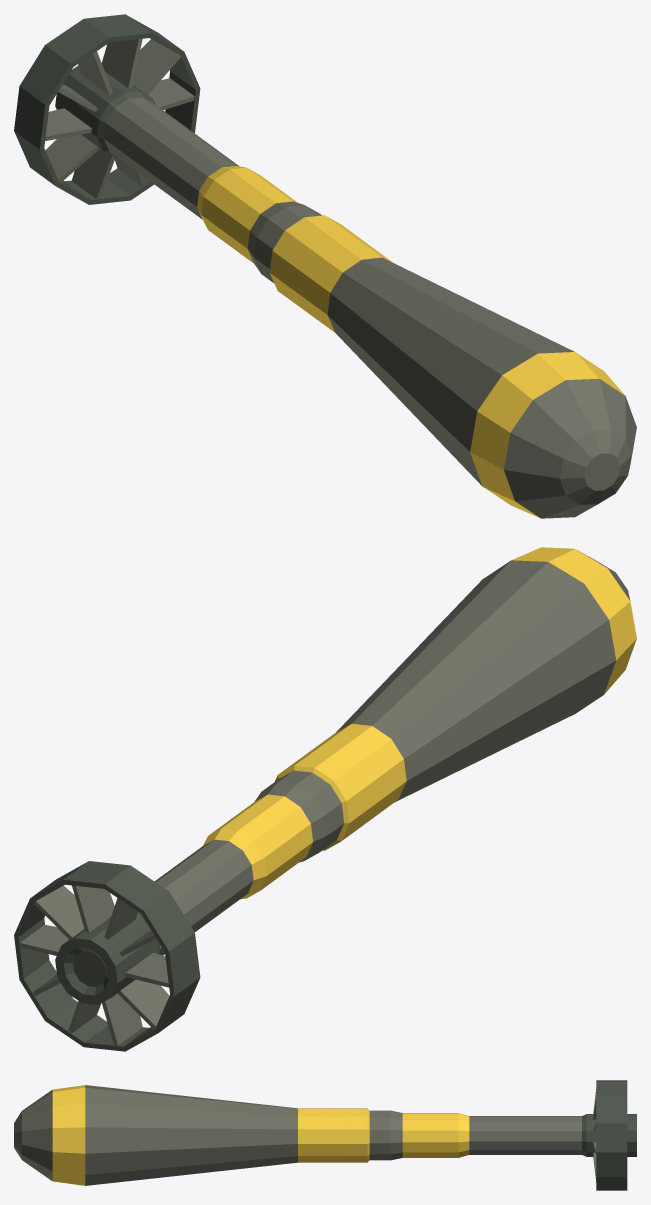
Rendered from SM_Missile_02.fbx.
3 renders of one model, top to bottom at view 1: azimuth 30°, elevation 25°; view 2: azimuth 150°, elevation 25°; view 3: azimuth 270°, elevation 25°, orthographic. The views are drawn at different scales.
Parts seen in each view (by area): view 1: SM_Missile_02; view 2: SM_Missile_02; view 3: SM_Missile_02.
Part boxes in pixels (x1=…): SM_Missile_02: x1=14, y1=14, x2=636, y2=518; SM_Missile_02: x1=14, y1=547, x2=636, y2=1051; SM_Missile_02: x1=14, y1=1080, x2=636, y2=1190.
Bounding box in the file's own units: 3.99 × 3.99 × 22.2.
1 material, 1 textured.
